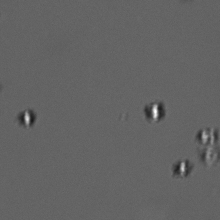Living Cell: (143, 99, 166, 124), (171, 157, 192, 178), (17, 108, 38, 128)
